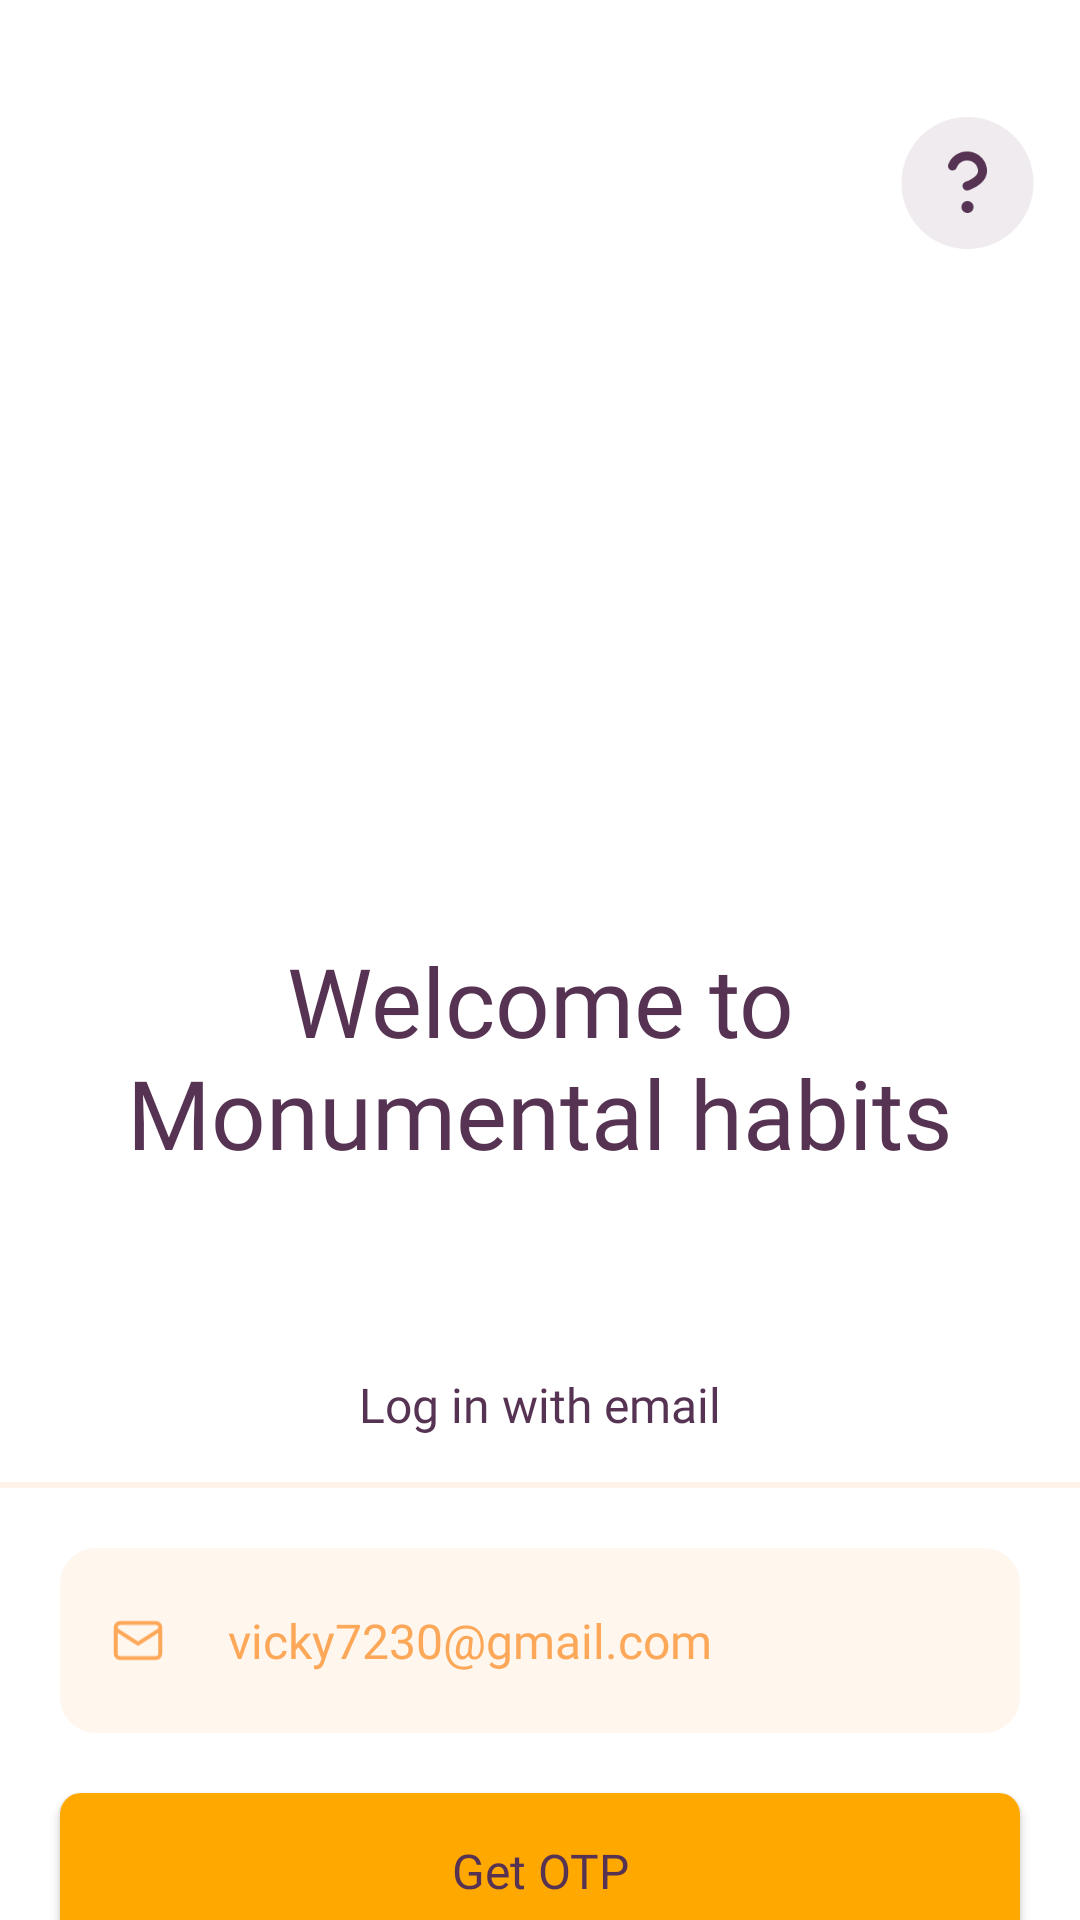

Locate icon controls on the screen. Image size 1080*1920, boxes as (x1, y1, x2, y2).
question: (901, 117, 1034, 249)
